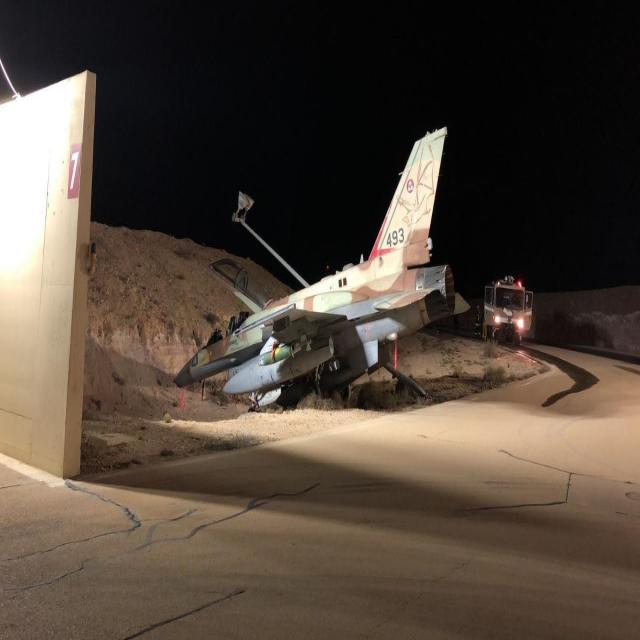MIL_Plane: (174, 126, 470, 412)
